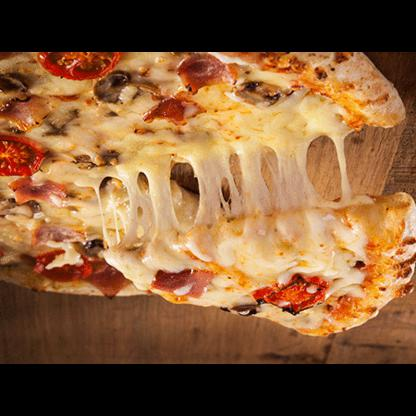pizza: (0, 52, 405, 297), (102, 193, 414, 337)
